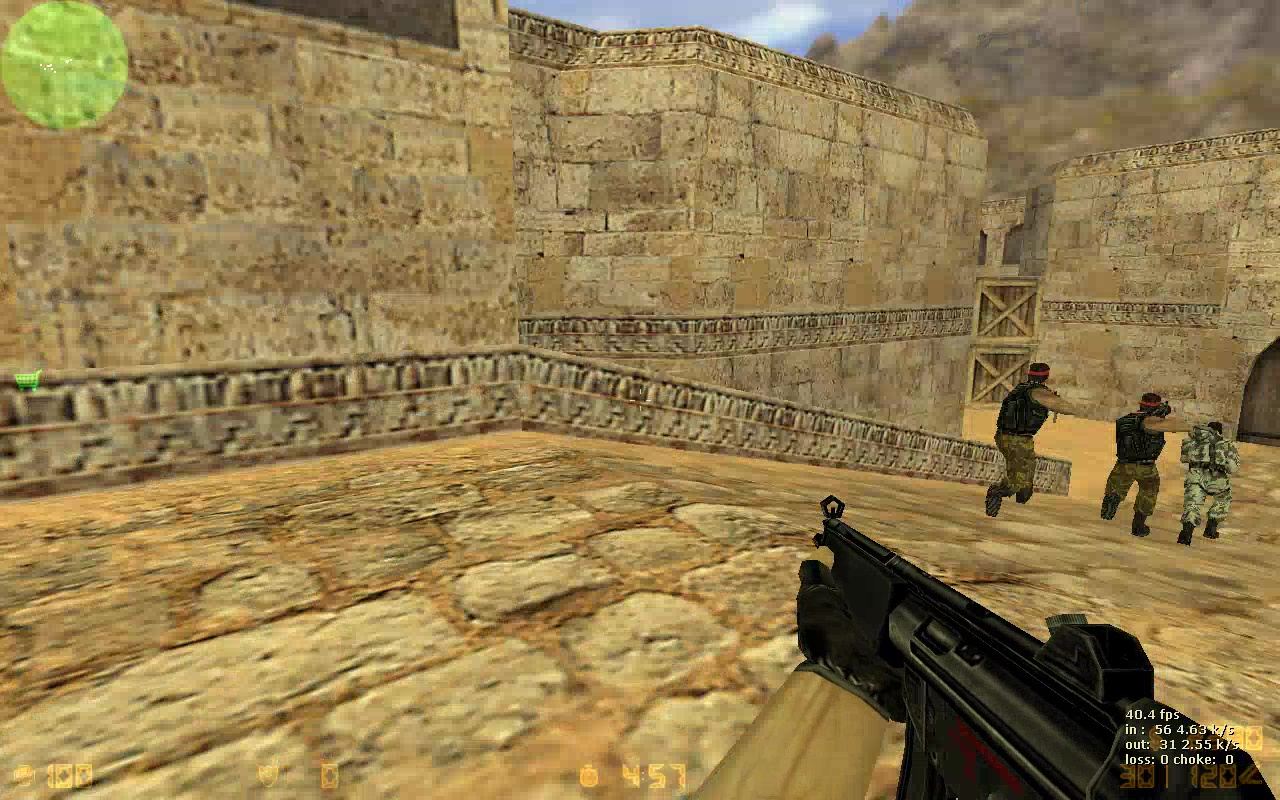terr1: (983, 358, 1074, 519), (1109, 391, 1177, 537)
terr2: (1176, 420, 1239, 551)
